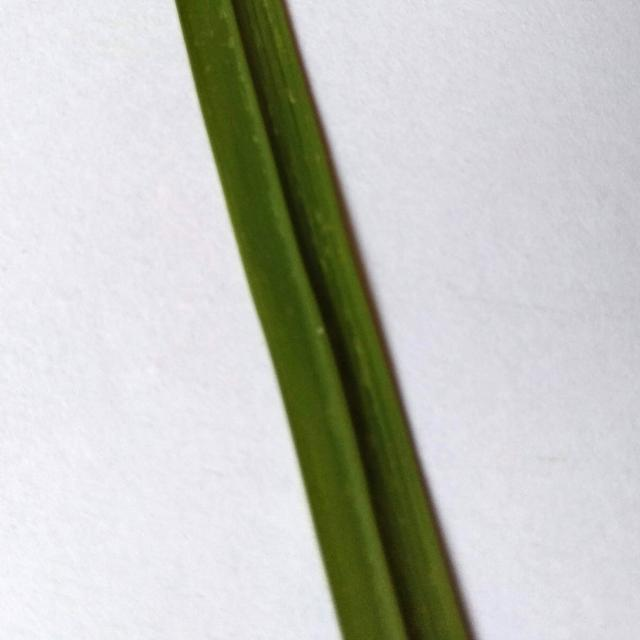Rice_Healthy: (175, 0, 471, 640)
